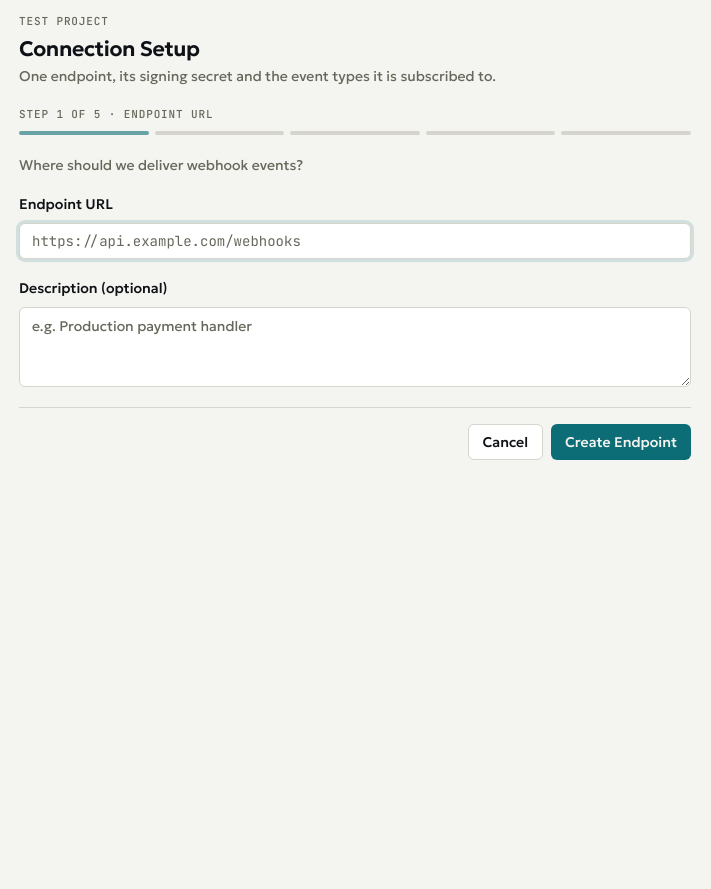
Test: ConnectionSetupPage — the secret step › offers the whsec_ secret beside the raw one, because a Standard Webhooks library needs that form
In the field labelled "Endpoint URL": (355, 241) [19,223,691,259], type "https://api.acme.io/webhooks"
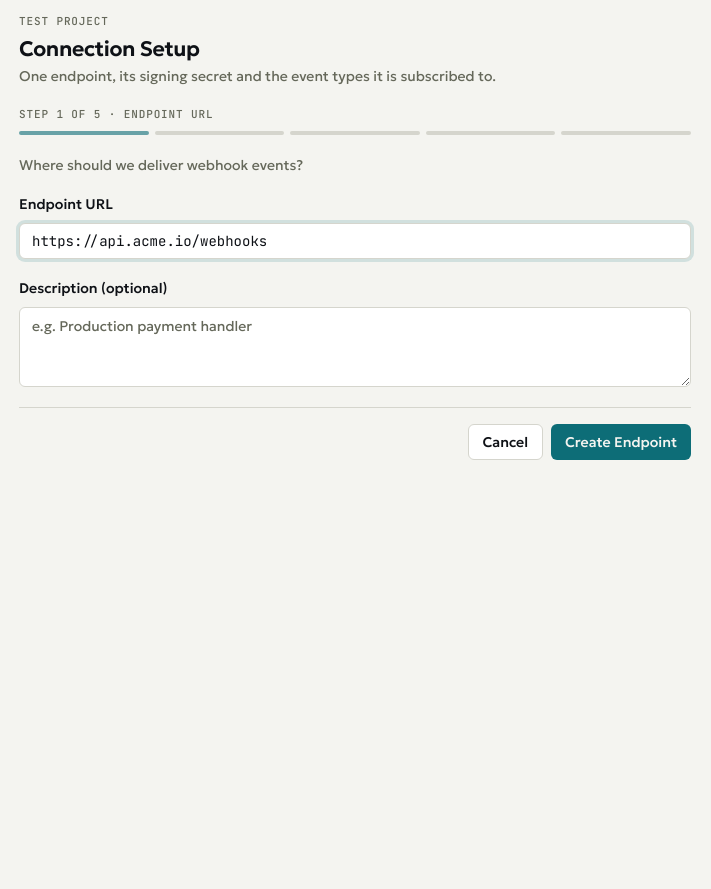
Click the button "Create Endpoint": click(621, 442) [551,424,691,460]
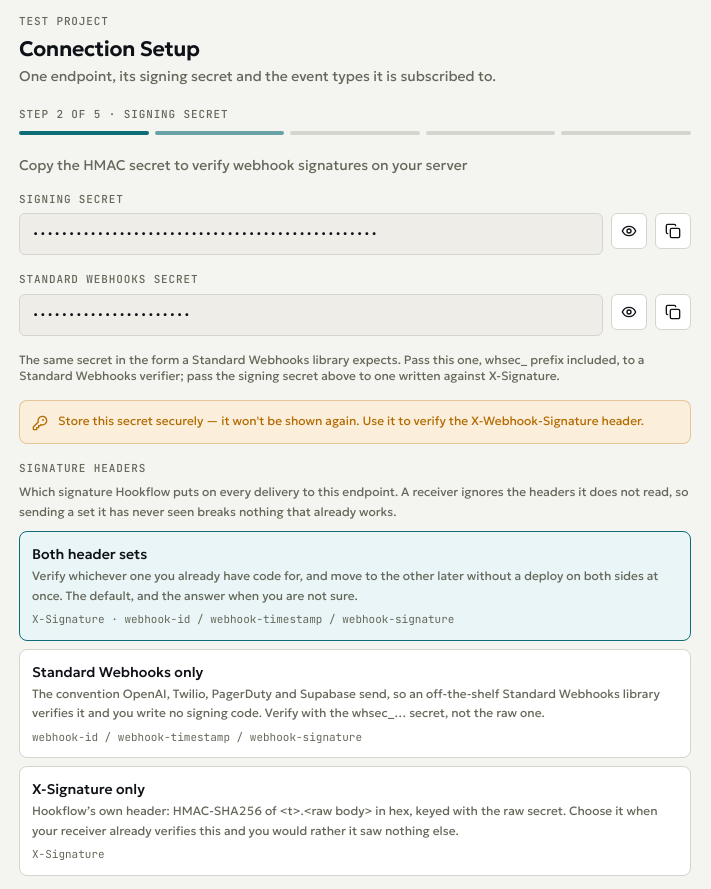
Expected: the number of elements with test id "signing-secret" is 2, [19,213,603,255]; [19,294,603,336]
Click the 2nd button named "reveal secret": click(629, 312) [611,294,647,330]
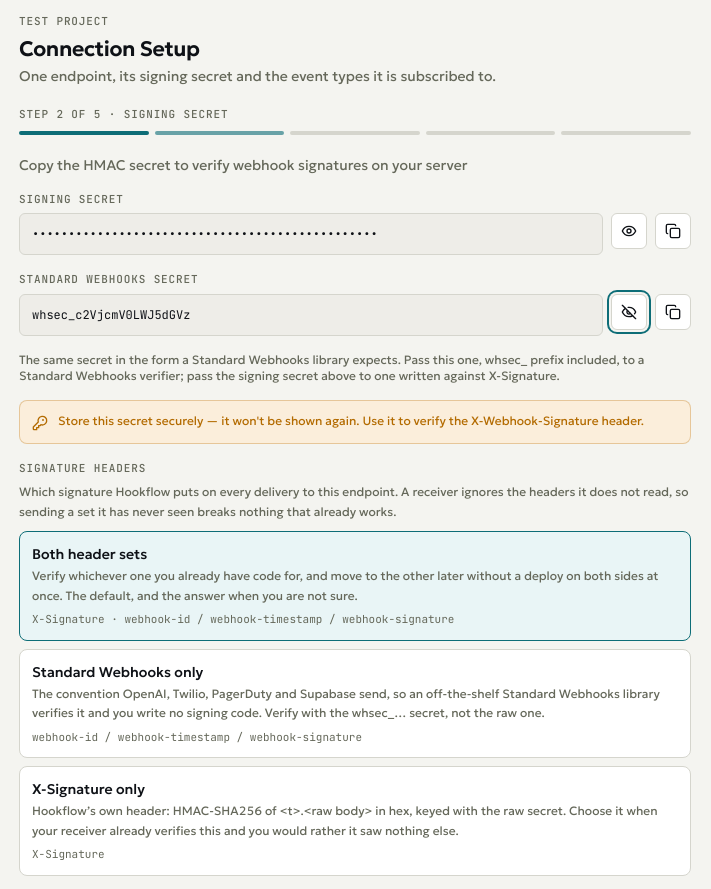
Expected: the text "whsec_c2VjcmV0LWJ5dGVz" is shown, [19,294,603,336]
